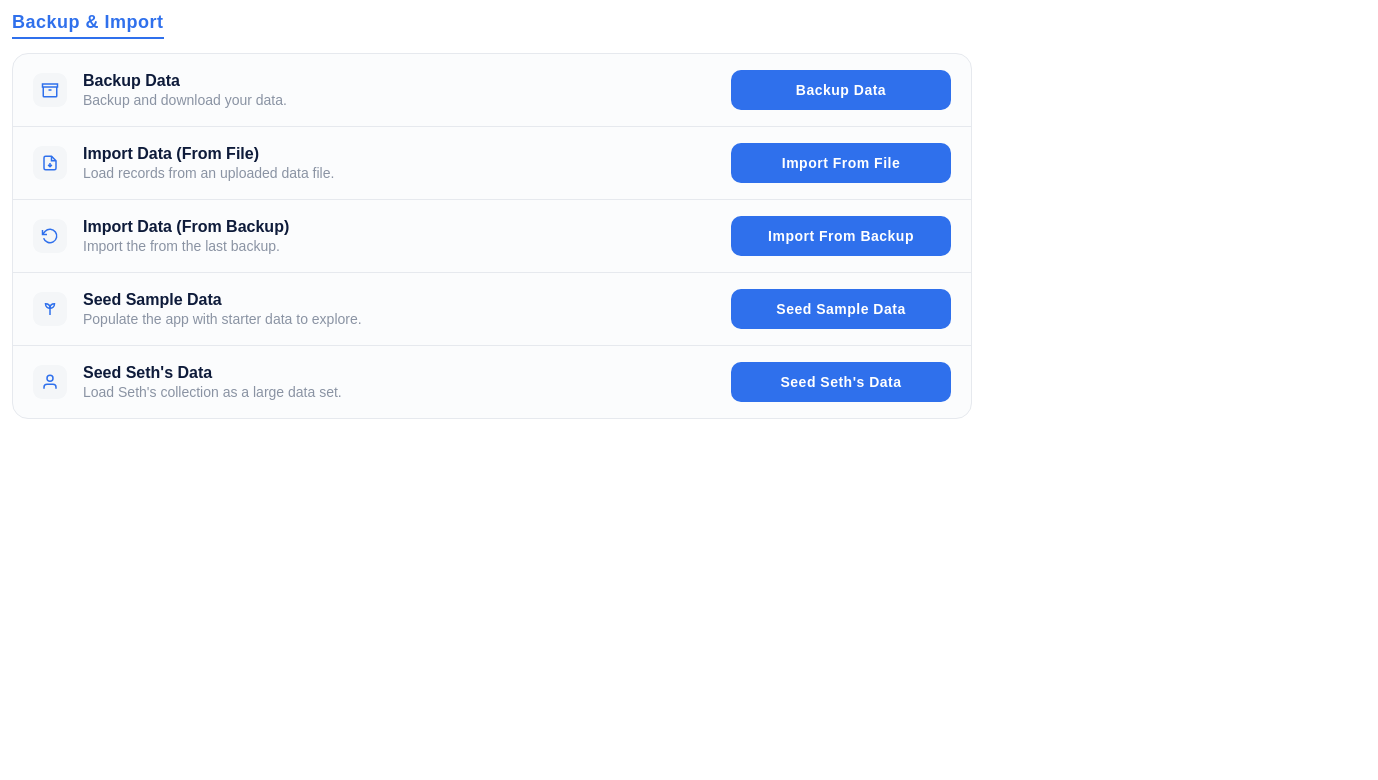
Test: BackupImport › Seed Sample Data › shows a success toast when seeding succeeds
The image size is (1378, 780).
What coordinates should you click on to do the following:
click the button "Seed Sample Data"
I would click on:
 (841, 309)
Its box is [731, 289, 951, 329].
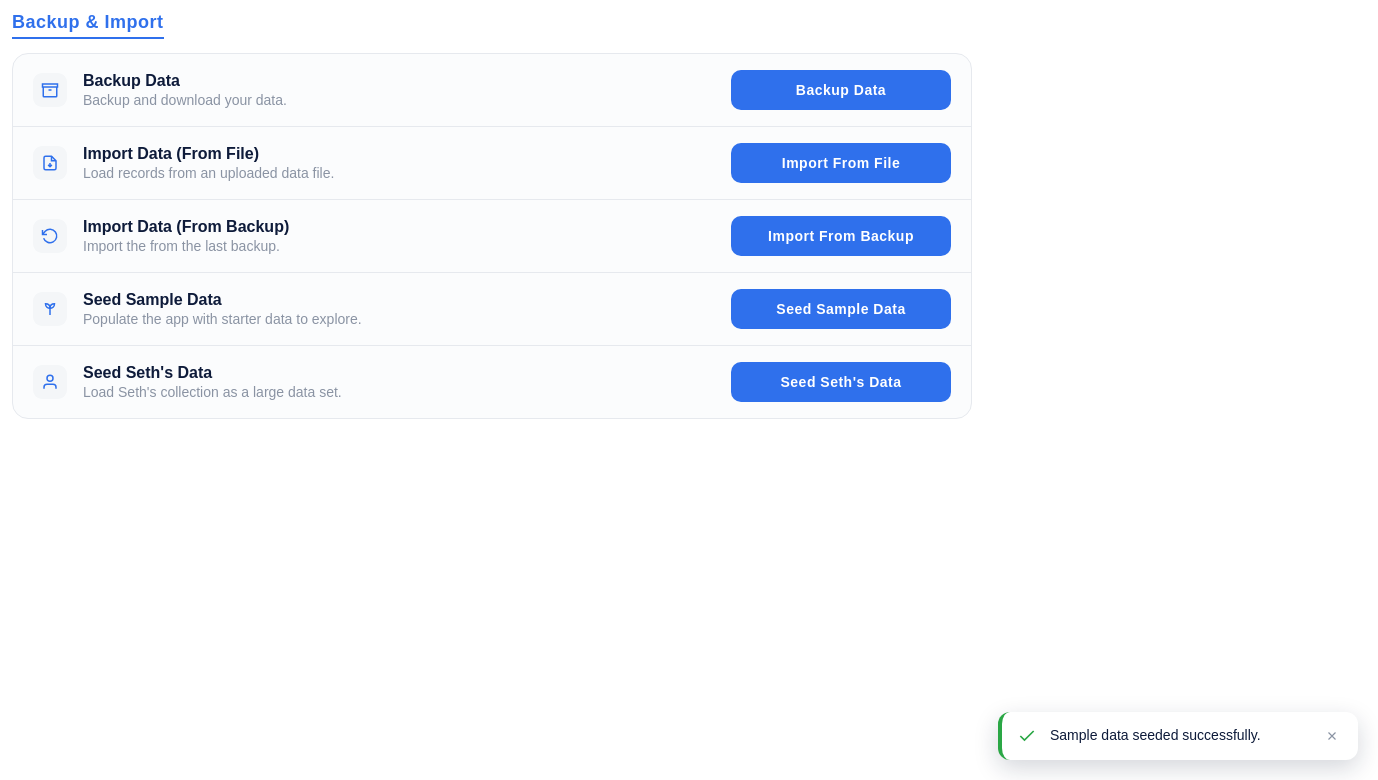
expect the text "Sample data seeded successfully." is shown: met, box [1050, 727, 1261, 743]
